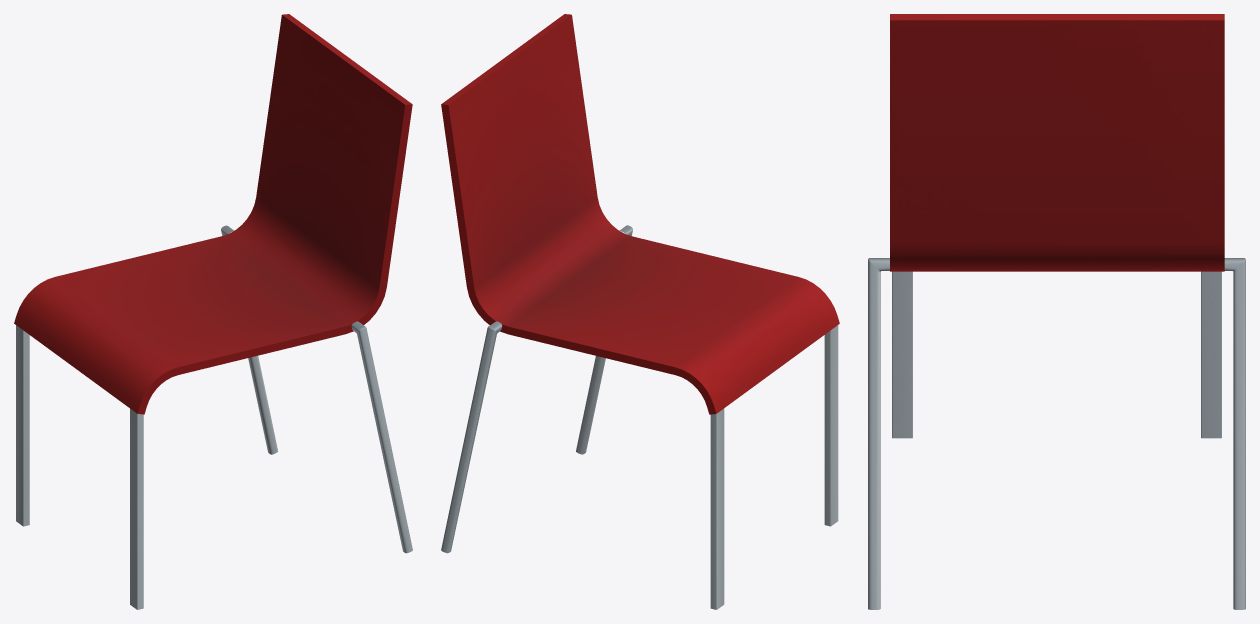
The model's file is 03_red.glb.
3 renders of one model, left to right at view 1: azimuth 30°, elevation 25°; view 2: azimuth 150°, elevation 25°; view 3: azimuth 270°, elevation 25°, orthographic. The views are drawn at different scales.
Parts seen in each view (by area): view 1: 03_red; view 2: 03_red; view 3: 03_red.
Part boxes in pixels (<box>): 03_red: <box>14,14,412,609</box>; 03_red: <box>441,14,839,609</box>; 03_red: <box>868,14,1245,609</box>.
Bounding box in the file's own units: 515 × 789 × 452.
1 material, 1 textured.
